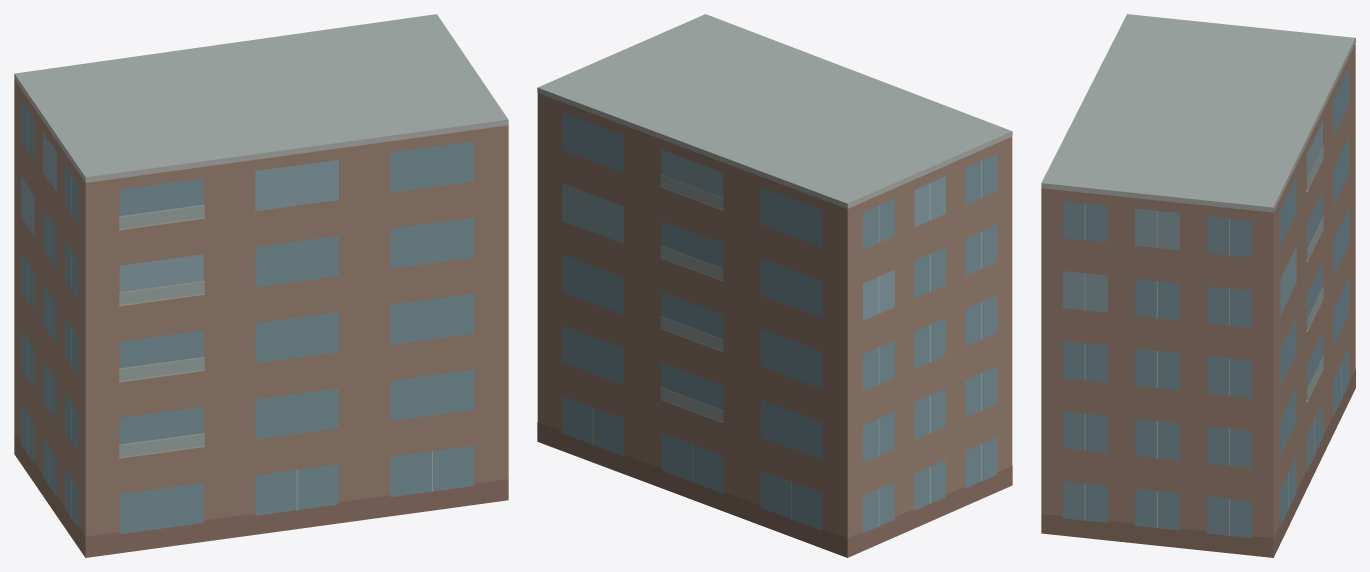
Rendered from survey-upis-32779623.glb.
The picture shows the model from 3 angles, left to right: view 1: azimuth 30°, elevation 25°; view 2: azimuth 150°, elevation 25°; view 3: azimuth 270°, elevation 25°; orthographic projection. The views are drawn at different scales.
Parts seen in each view (by area): view 1: survey-upis-32779623.tmp; view 2: survey-upis-32779623.tmp; view 3: survey-upis-32779623.tmp.
Boxes of the visible parts, x1,y1,x2,y2 form: survey-upis-32779623.tmp: (14,14,508,557); survey-upis-32779623.tmp: (537,14,1012,557); survey-upis-32779623.tmp: (1041,14,1355,557).
Size of the model in its own units: 19.68 by 16.6 by 13.52.
